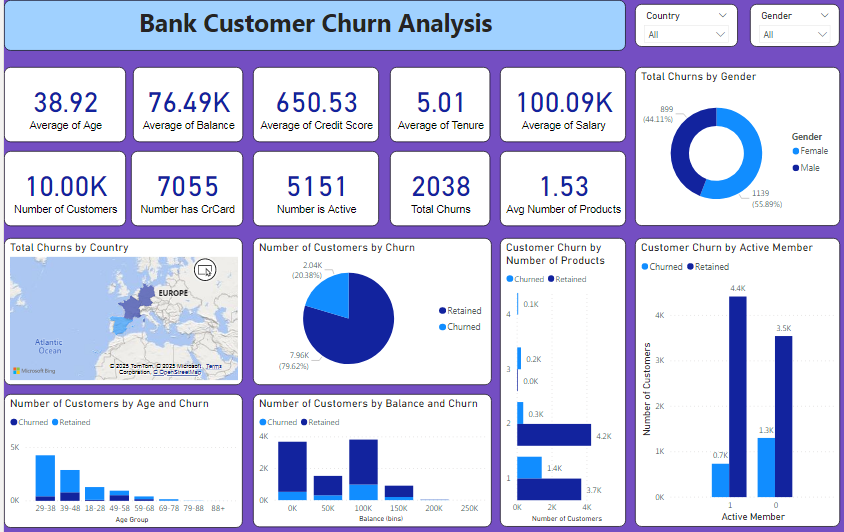

The dashboard page shown, as its layout file describes it:
{"tool":"powerbi","page":{"name":"Page 1","canvas":[1280,810],"ordinal":0},"visuals":[{"type":"textbox","box":[0,0,943.3,77.3],"z":0},{"type":"card","fields":{"Values":["Avg(Bank Customer churn.Age)"]},"box":[0,101.6,185,113.7],"z":1000},{"type":"card","fields":{"Values":["Avg(Bank Customer churn.Balance)"]},"box":[195.6,101.6,166.8,113.7],"z":2000},{"type":"card","fields":{"Values":["Count(Bank Customer churn.CustomerId)"]},"box":[0,229,185,113.7],"z":3000},{"type":"card","fields":{"Values":["Avg(Bank Customer churn.CreditScore)"]},"box":[377.6,101.6,191.1,113.7],"z":4000},{"type":"card","fields":{"Values":["Avg(Bank Customer churn.Tenure)"]},"box":[585.4,101.6,151.7,113.7],"z":5000},{"type":"card","fields":{"Values":["Avg(Bank Customer churn.EstimatedSalary)"]},"box":[752.2,101.6,191.1,113.7],"z":6000},{"type":"card","fields":{"Values":["Sum(Bank Customer churn.Exited)"]},"box":[585.4,229,151.7,113.7],"z":7000},{"type":"card","fields":{"Values":["Sum(Bank Customer churn.HasCrCard)"]},"box":[192.6,229,169.9,113.7],"z":8000},{"type":"card","fields":{"Values":["Sum(Bank Customer churn.IsActiveMember)"]},"box":[377.6,229,191.1,113.7],"z":9000},{"type":"card","fields":{"Values":["Avg(Bank Customer churn.NumOfProducts)"]},"box":[752.2,229,191.1,113.7],"z":10000},{"type":"donutChart","title":"Total Churns by Gender","fields":{"Y":["Sum(Bank Customer churn.Exited)"],"Category":["Bank Customer churn.Gender"]},"box":[957,101.6,310.9,241.1],"z":11000},{"type":"filledMap","title":"Total Churns by Country","fields":{"Category":["Bank Customer churn.Geography"]},"box":[0,360.9,362.5,222.9],"z":12000},{"type":"pieChart","title":"Number of Customers by Churn","fields":{"Y":["Count(Bank Customer churn.CustomerId)"],"Category":["Bank Customer churn.IsChurn"]},"box":[377.6,360.9,362.5,222.9],"z":13000},{"type":"columnChart","title":"Number of Customers by Age and Churn","fields":{"Category":["Bank Customer churn.Age Group"],"Y":["Count(Bank Customer churn.CustomerId)"],"Series":["Bank Customer churn.IsChurn"]},"box":[0,597.5,362.5,203.2],"z":14000},{"type":"columnChart","title":"Number of Customers by Balance and Churn","fields":{"Category":["Bank Customer churn.Balance (bins)"],"Y":["Count(Bank Customer churn.CustomerId)"],"Series":["Bank Customer churn.IsChurn"]},"box":[378,598,362,202],"z":15000},{"type":"clusteredBarChart","title":"Customer Churn by Number of Products","fields":{"Category":["Bank Customer churn.NumOfProducts"],"Y":["Count(Bank Customer churn.CustomerId)"],"Series":["Bank Customer churn.IsChurn"]},"box":[752.2,360.9,191.1,438.3],"z":16000},{"type":"slicer","fields":{"Values":["Bank Customer churn.Gender"]},"box":[1131.4,6.1,136.5,65.2],"z":17000},{"type":"slicer","fields":{"Values":["Bank Customer churn.Geography"]},"box":[957,6.1,156.2,65.2],"z":18000},{"type":"clusteredColumnChart","title":"Customer Churn by Active Member","fields":{"Y":["Count(Bank Customer churn.CustomerId)"],"Category":["Bank Customer churn.IsActiveMember"],"Series":["Bank Customer churn.IsChurn"]},"box":[957,360.9,310.9,438.3],"z":19000}]}

Visuals, with their boxes in screenshot pixels (x1, y1, x2, y2), scaled from the page's 1280x810 canvas onto the 844x532 screenshot:
textbox: 0, 0, 622, 51
card - Avg(Bank Customer churn.Age): 0, 67, 122, 141
card - Avg(Bank Customer churn.Balance): 129, 67, 239, 141
card - Count(Bank Customer churn.CustomerId): 0, 150, 122, 225
card - Avg(Bank Customer churn.CreditScore): 249, 67, 375, 141
card - Avg(Bank Customer churn.Tenure): 386, 67, 486, 141
card - Avg(Bank Customer churn.EstimatedSalary): 496, 67, 622, 141
card - Sum(Bank Customer churn.Exited): 386, 150, 486, 225
card - Sum(Bank Customer churn.HasCrCard): 127, 150, 239, 225
card - Sum(Bank Customer churn.IsActiveMember): 249, 150, 375, 225
card - Avg(Bank Customer churn.NumOfProducts): 496, 150, 622, 225
"Total Churns by Gender" donutChart: 631, 67, 836, 225
"Total Churns by Country" filledMap: 0, 237, 239, 383
"Number of Customers by Churn" pieChart: 249, 237, 488, 383
"Number of Customers by Age and Churn" columnChart: 0, 392, 239, 526
"Number of Customers by Balance and Churn" columnChart: 249, 393, 488, 525
"Customer Churn by Number of Products" clusteredBarChart: 496, 237, 622, 525
slicer - Bank Customer churn.Gender: 746, 4, 836, 47
slicer - Bank Customer churn.Geography: 631, 4, 734, 47
"Customer Churn by Active Member" clusteredColumnChart: 631, 237, 836, 525
